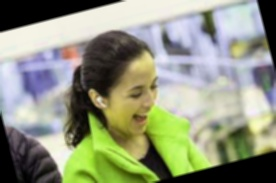earphone: (86, 83, 109, 112)
